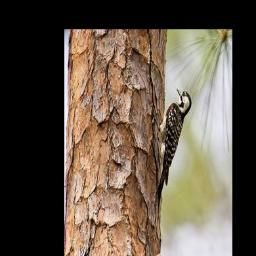Woodpecker: (152, 88, 192, 213)
